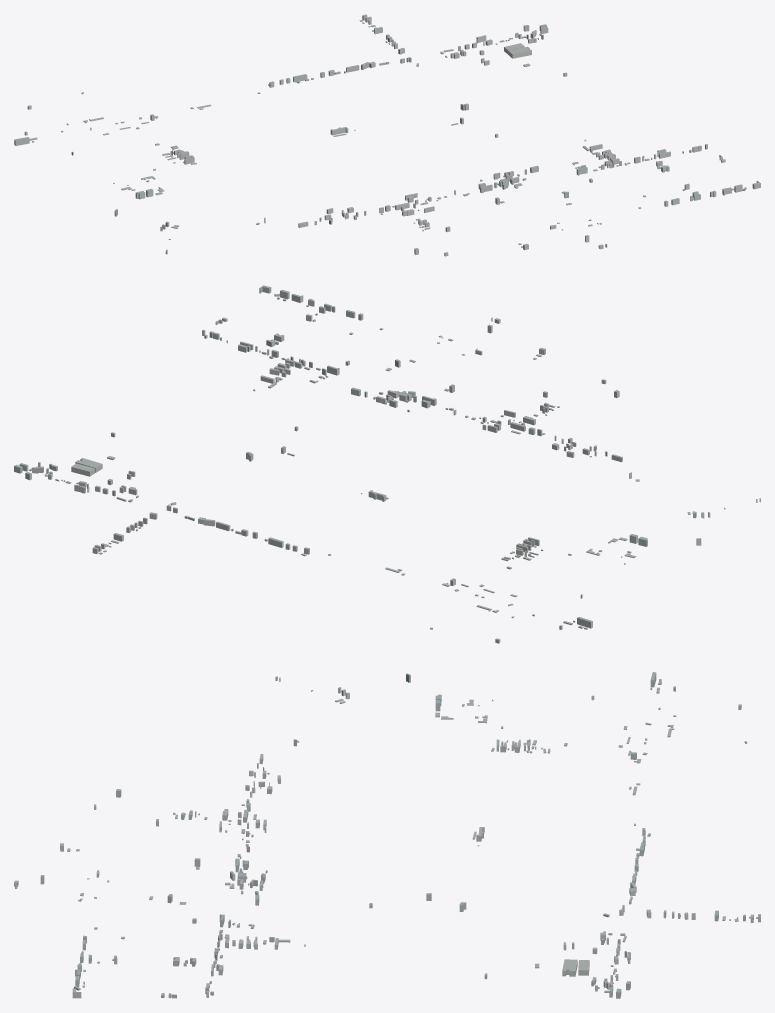
Rendered from far.glb.
The picture shows the model from 3 angles, top to bottom: view 1: azimuth 30°, elevation 25°; view 2: azimuth 150°, elevation 25°; view 3: azimuth 270°, elevation 25°; orthographic projection. The views are drawn at different scales.
Bounding box in the file's own units: 2091 × 23.8 × 2064.
